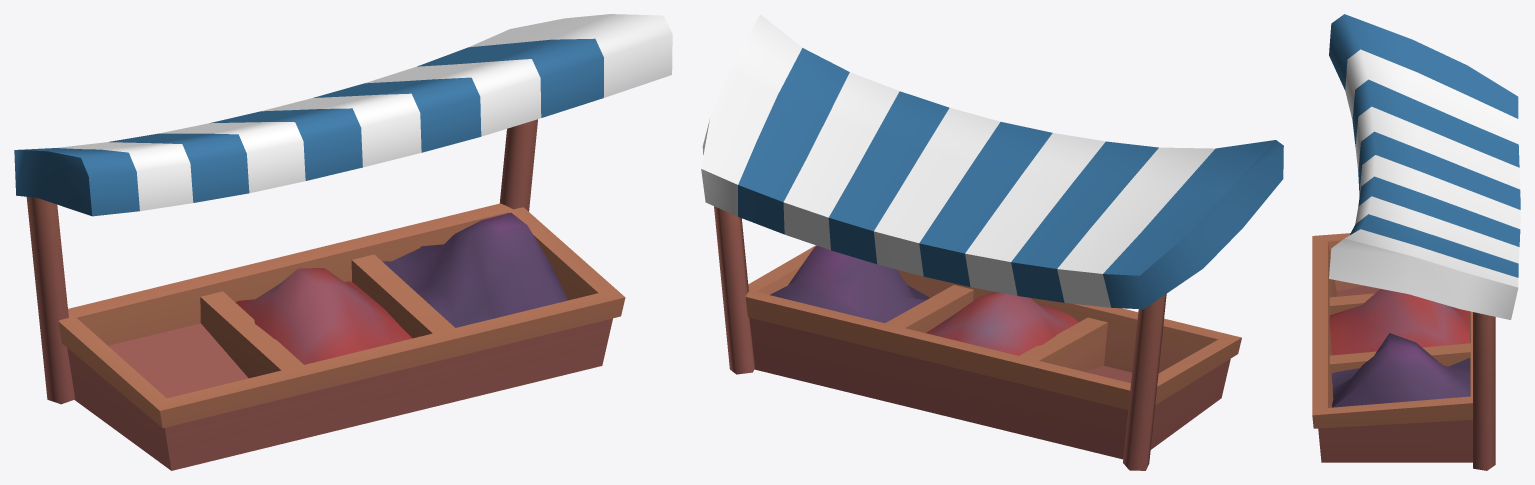
File: p-puesto-azul.glb
The picture shows the model from 3 angles, left to right: view 1: azimuth 30°, elevation 25°; view 2: azimuth 150°, elevation 25°; view 3: azimuth 270°, elevation 25°; orthographic projection. The views are drawn at different scales.
Visible parts, largest first — view 1: Market Stall Blue; view 2: Market Stall Blue; view 3: Market Stall Blue.
Part boxes in pixels (bbox=[...]): Market Stall Blue: bbox=[14, 14, 672, 470]; Market Stall Blue: bbox=[701, 14, 1283, 470]; Market Stall Blue: bbox=[1312, 14, 1520, 470].
Size of the model in its own units: 1.99 by 1.03 by 0.7692.
1 material, 1 textured.
